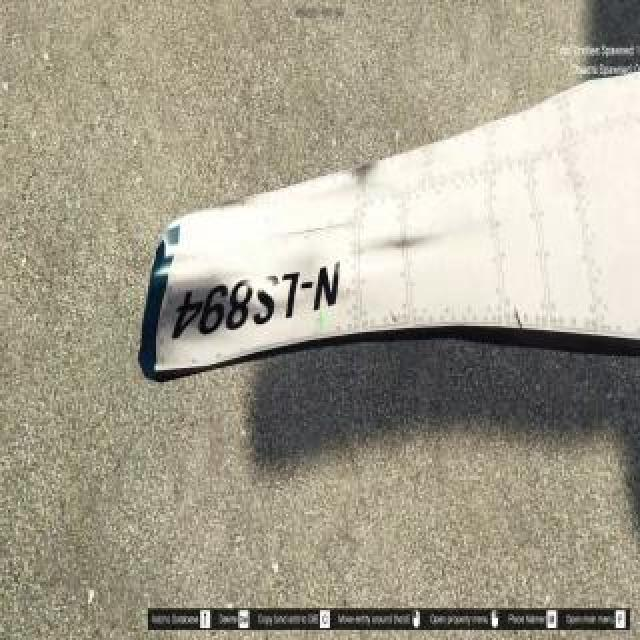dent: (153, 252, 205, 297), (350, 161, 383, 190), (391, 308, 403, 329)
